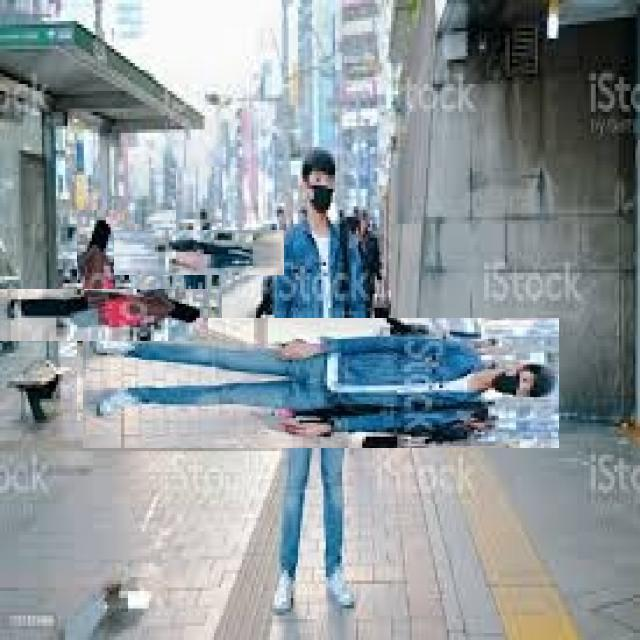NotFall: (100, 288, 557, 461)
